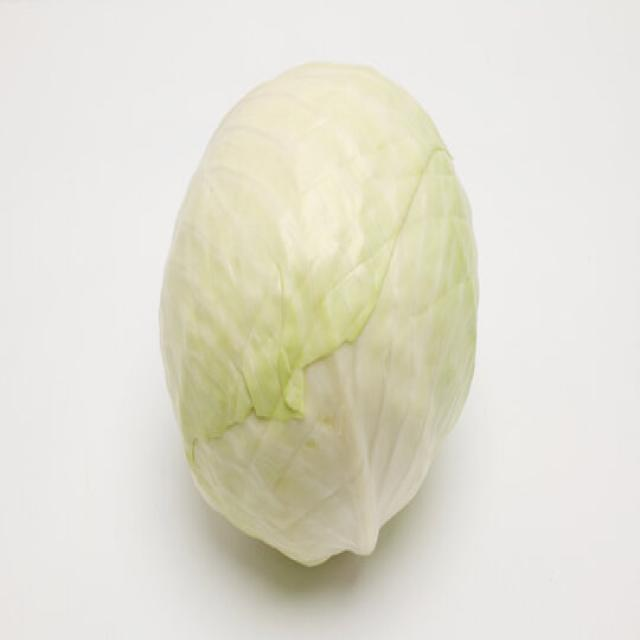Cabbage: (156, 59, 479, 567)
